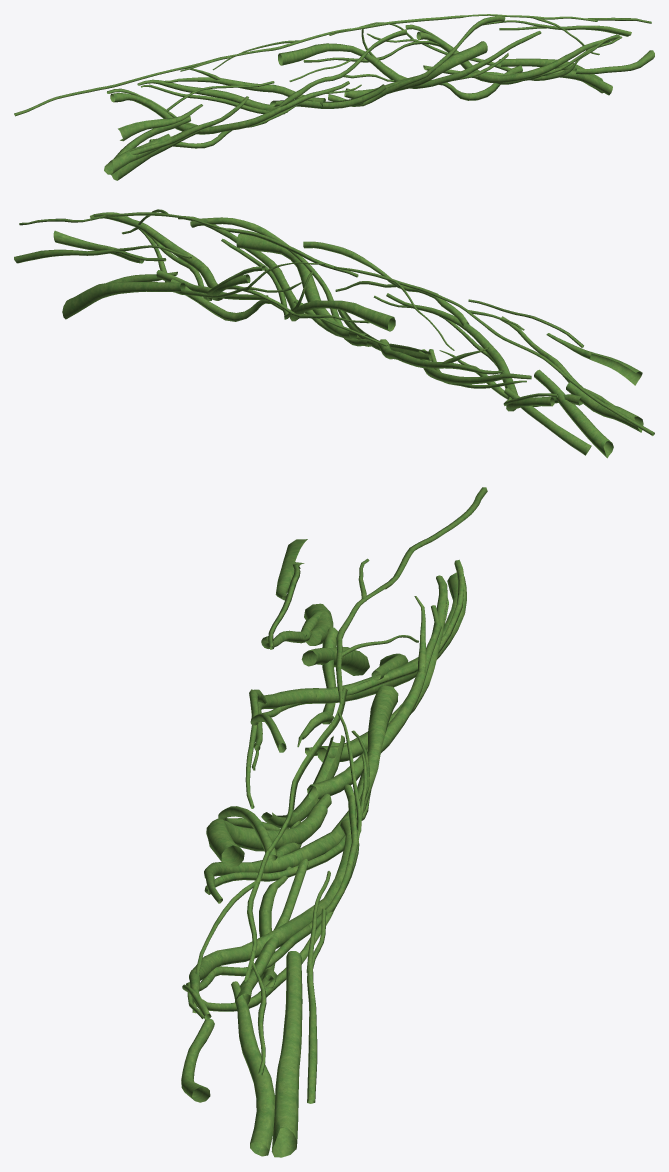
The model's file is SM_ENV_KNFRST_FallenTreeRoot_A.FBX.
3 renders of one model, top to bottom at view 1: azimuth 30°, elevation 25°; view 2: azimuth 150°, elevation 25°; view 3: azimuth 270°, elevation 25°, orthographic. The views are drawn at different scales.
Visible parts, largest first — view 1: SM_ENV_KNFRST_FallenTreeRoot_A; view 2: SM_ENV_KNFRST_FallenTreeRoot_A; view 3: SM_ENV_KNFRST_FallenTreeRoot_A.
Boxes of the visible parts, x1,y1,x2,y2 form: SM_ENV_KNFRST_FallenTreeRoot_A: (14, 14, 654, 180); SM_ENV_KNFRST_FallenTreeRoot_A: (14, 209, 654, 458); SM_ENV_KNFRST_FallenTreeRoot_A: (181, 487, 487, 1157).
Bounding box in the file's own units: 6056 × 1130 × 1383.
